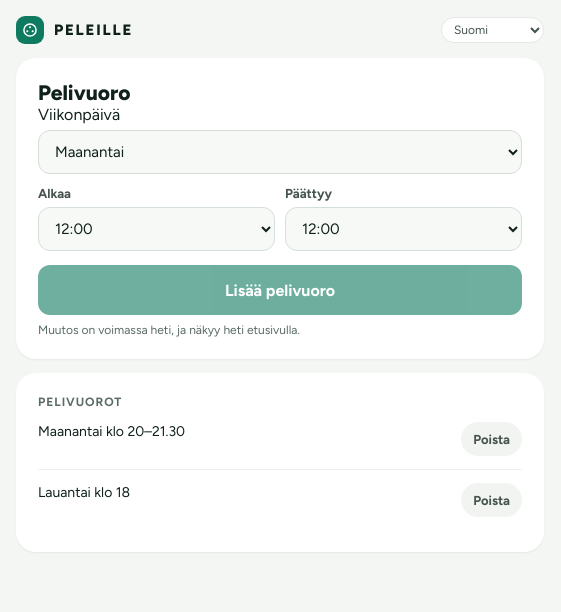
Scenario: the unlisted settings page › leaves the slot alone when the question is cancelled
The width and height of the screenshot is (561, 612).
Expected: the text "Lauantai klo 18" is shown, [38,484,130,501]
Click the button "Poista" in the row of "Lauantai klo 18" at x=492, y=500, box [461,483,522,517]
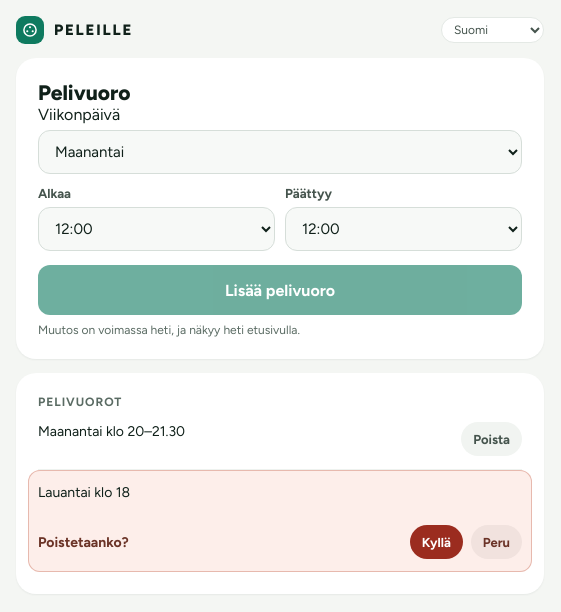
Click the button "Peru" at x=496, y=542, box [471,525,522,559]
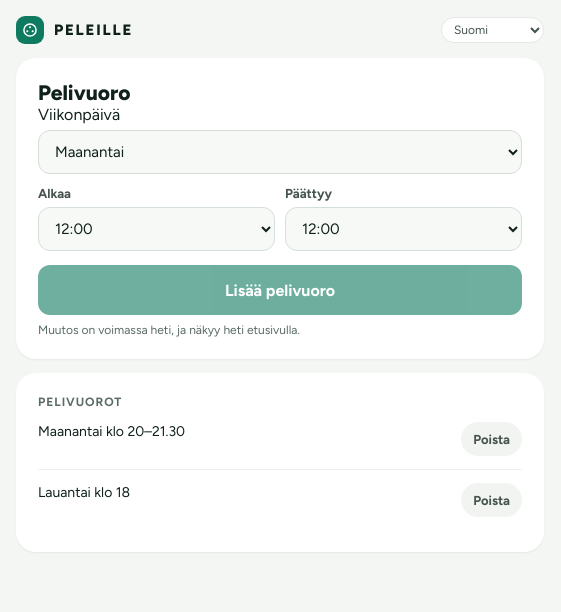
Now the button "Poista" in the row of "Lauantai klo 18" is shown, box [461,483,522,517]
